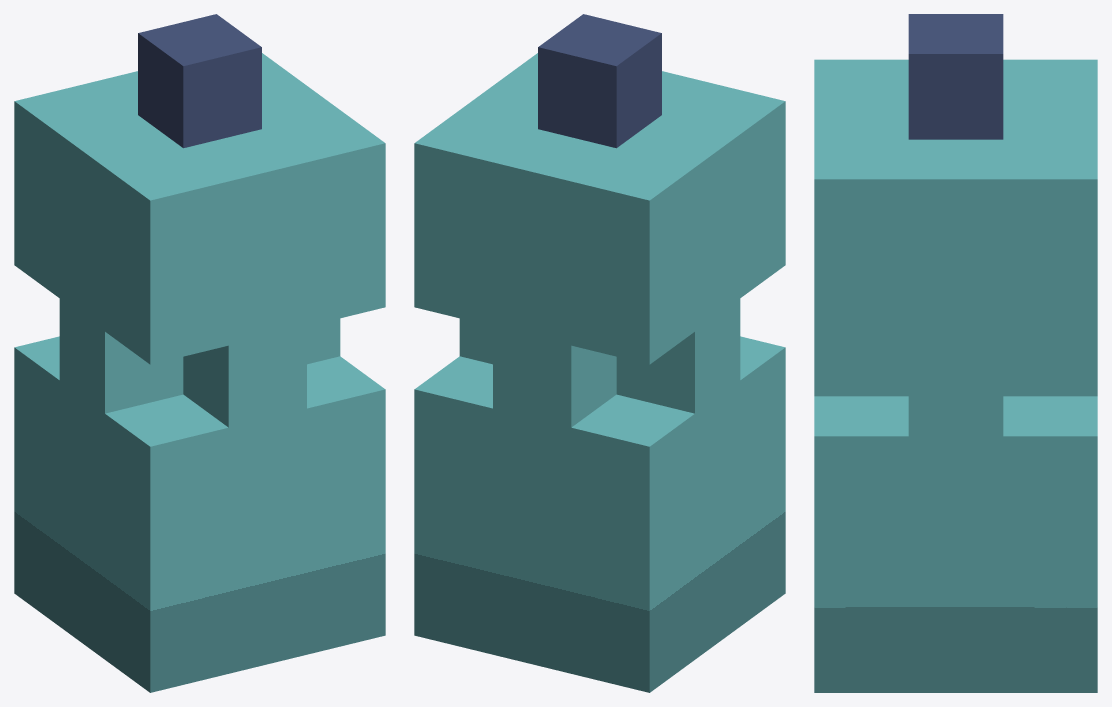
File: WaterBottle_LODGroup.fbx
The picture shows the model from 3 angles, left to right: view 1: azimuth 30°, elevation 25°; view 2: azimuth 150°, elevation 25°; view 3: azimuth 270°, elevation 25°; orthographic projection. The views are drawn at different scales.
Parts seen in each view (by area): view 1: WaterBottle_LOD0; view 2: WaterBottle_LOD0; view 3: WaterBottle_LOD0.
Boxes of the visible parts, x1=… form: WaterBottle_LOD0: x1=14, y1=14, x2=385, y2=692; WaterBottle_LOD0: x1=414, y1=14, x2=785, y2=692; WaterBottle_LOD0: x1=814, y1=14, x2=1097, y2=692.
Size of what is drawn, in the model's own units: 0.201 by 0.469 by 0.201.
